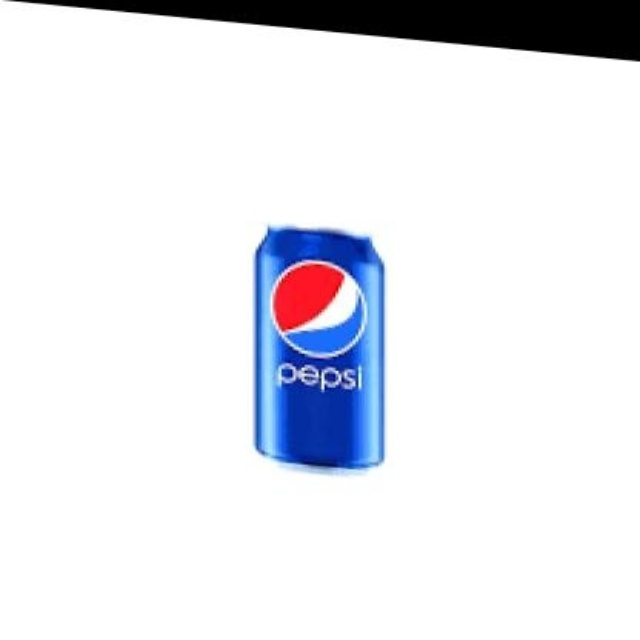trash: (255, 228, 382, 466)
